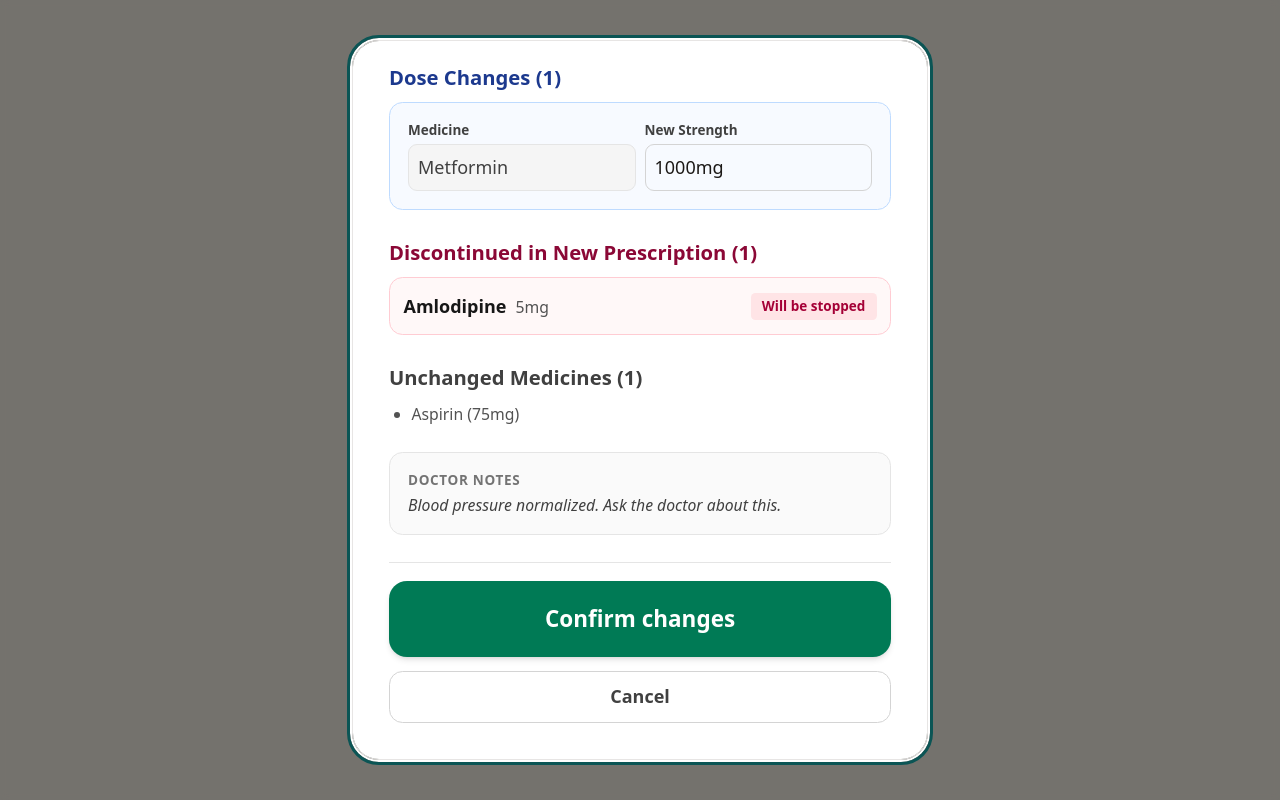
ScanConfirmModal Component Flow & Accessibility › completes full scan, preview diff, editable fields, and confirm flow
Earlier steps of the test are not shown.
Later steps or results of the test are not shown.
(page scrolled)
expect the heading "Dose Changes (1)" is shown: met, box left=389, top=63, right=561, bottom=91
expect the heading "Discontinued in New Prescription (1)" is shown: met, box left=389, top=238, right=757, bottom=266
Click the button "Confirm changes". click: (640, 619)
box: left=389, top=581, right=891, bottom=657
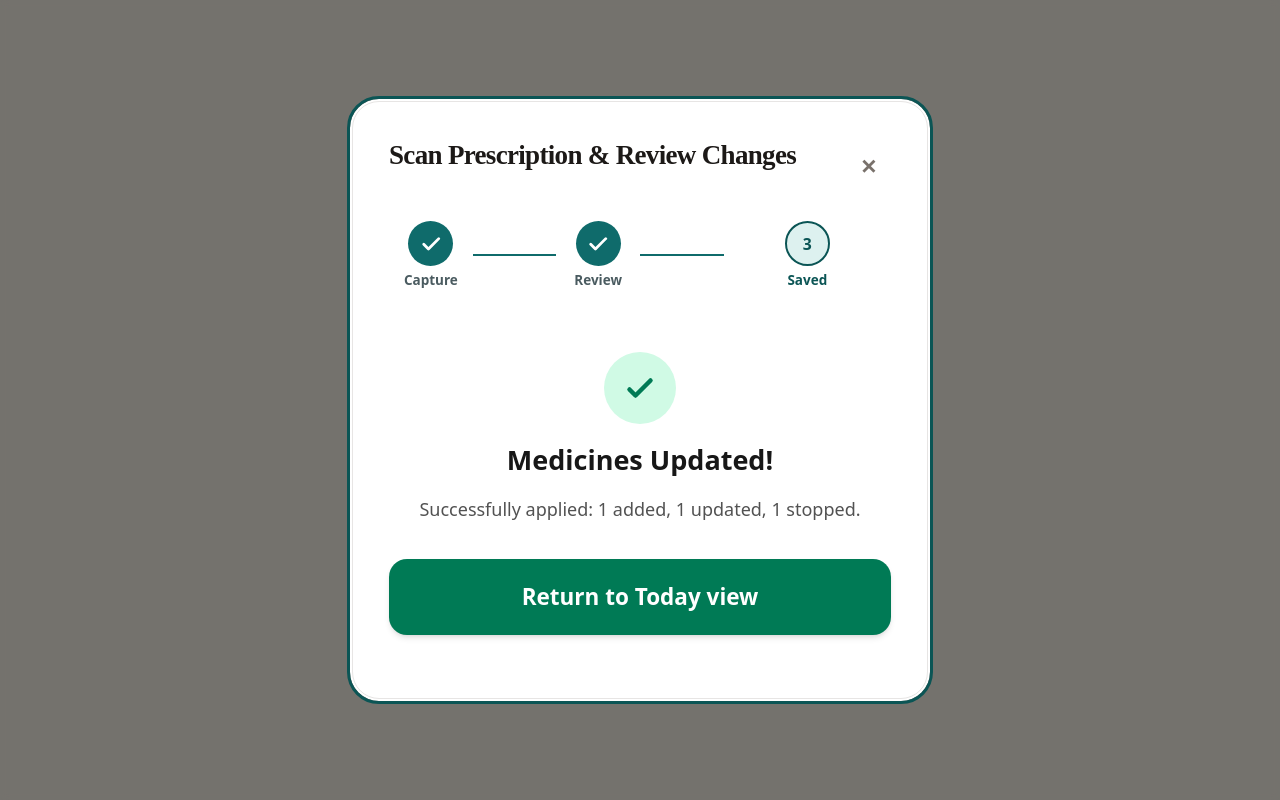
expect the heading "Medicines Updated!" is shown: met, box left=507, top=441, right=773, bottom=478
expect the text "Successfully applied: 1 added, 1 updated, 1 stopped." is shown: met, box left=389, top=496, right=891, bottom=523
